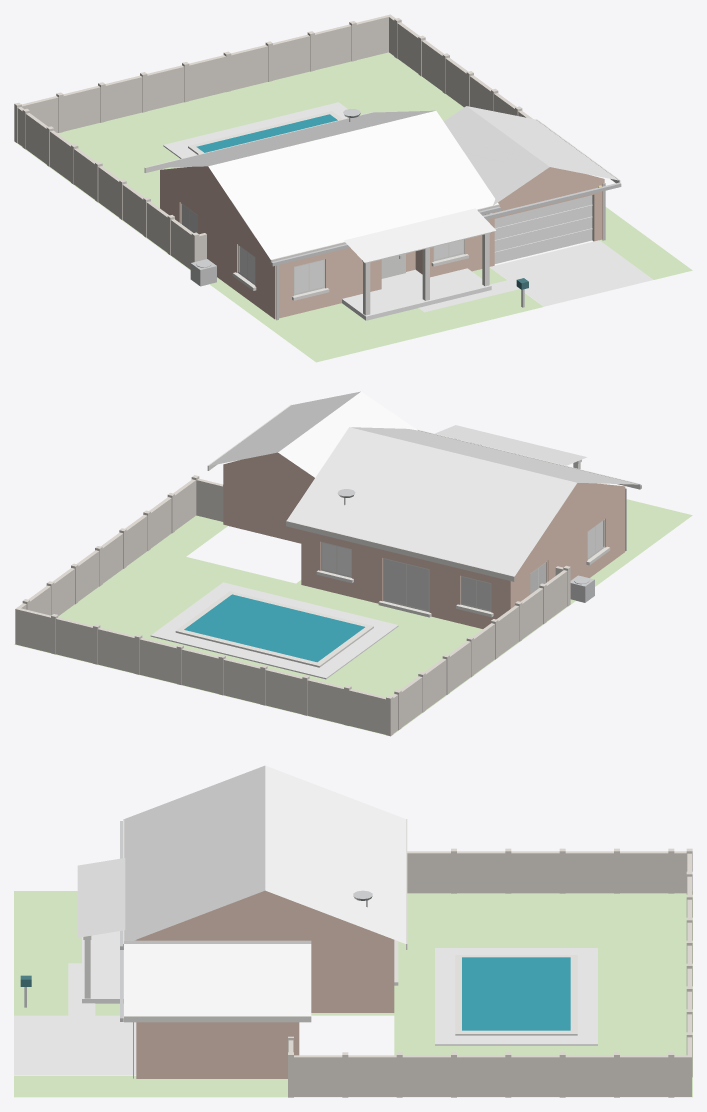
File: house_ranch72.glb
The picture shows the model from 3 angles, top to bottom: view 1: azimuth 30°, elevation 25°; view 2: azimuth 150°, elevation 25°; view 3: azimuth 270°, elevation 25°; orthographic projection. The views are drawn at different scales.
Visible parts, largest first — view 1: house_ranch72_Roof, house_ranch72_Lawn, house_ranch72_Walls2, house_ranch72_Walls, house_ranch72_Site, house_ranch72_Doors, house_ranch72_Trim, house_ranch72_Details, house_ranch72_Glass, house_ranch72_Water, house_ranch72_Frames; view 2: house_ranch72_Roof, house_ranch72_Walls2, house_ranch72_Lawn, house_ranch72_Walls, house_ranch72_Water, house_ranch72_Site, house_ranch72_Trim, house_ranch72_WindowsLit, house_ranch72_Glass, house_ranch72_Frames, house_ranch72_Details; view 3: house_ranch72_Roof, house_ranch72_Lawn, house_ranch72_Walls2, house_ranch72_Walls, house_ranch72_Site, house_ranch72_Water, house_ranch72_Trim, house_ranch72_Details.
Boxes of the visible parts, bbox=[...] form: house_ranch72_Roof: bbox=[146, 106, 618, 262]; house_ranch72_Lawn: bbox=[14, 52, 692, 362]; house_ranch72_Walls2: bbox=[14, 14, 568, 269]; house_ranch72_Walls: bbox=[160, 166, 604, 319]; house_ranch72_Site: bbox=[163, 102, 653, 320]; house_ranch72_Doors: bbox=[494, 195, 592, 263]; house_ranch72_Trim: bbox=[144, 111, 620, 315]; house_ranch72_Details: bbox=[190, 108, 621, 320]; house_ranch72_Glass: bbox=[239, 240, 463, 293]; house_ranch72_Water: bbox=[196, 114, 337, 152]; house_ranch72_Frames: bbox=[180, 203, 464, 295]; house_ranch72_Roof: bbox=[209, 391, 638, 576]; house_ranch72_Walls2: bbox=[15, 475, 570, 736]; house_ranch72_Lawn: bbox=[14, 499, 692, 736]; house_ranch72_Walls: bbox=[223, 452, 625, 628]; house_ranch72_Water: bbox=[184, 594, 364, 662]; house_ranch72_Site: bbox=[150, 582, 398, 679]; house_ranch72_Trim: bbox=[175, 404, 640, 667]; house_ranch72_WindowsLit: bbox=[384, 559, 546, 610]; house_ranch72_Glass: bbox=[322, 521, 603, 575]; house_ranch72_Frames: bbox=[321, 519, 604, 612]; house_ranch72_Details: bbox=[337, 485, 641, 602]; house_ranch72_Roof: bbox=[77, 765, 405, 1015]; house_ranch72_Lawn: bbox=[14, 891, 692, 1097]; house_ranch72_Walls2: bbox=[288, 848, 692, 1097]; house_ranch72_Walls: bbox=[136, 890, 394, 1078]; house_ranch72_Site: bbox=[14, 931, 597, 1075]; house_ranch72_Water: bbox=[462, 957, 570, 1030]; house_ranch72_Trim: bbox=[83, 819, 577, 1035]; house_ranch72_Details: bbox=[24, 821, 372, 1078].
Bounding box in the file's own units: 73.69 × 20.74 × 100.
